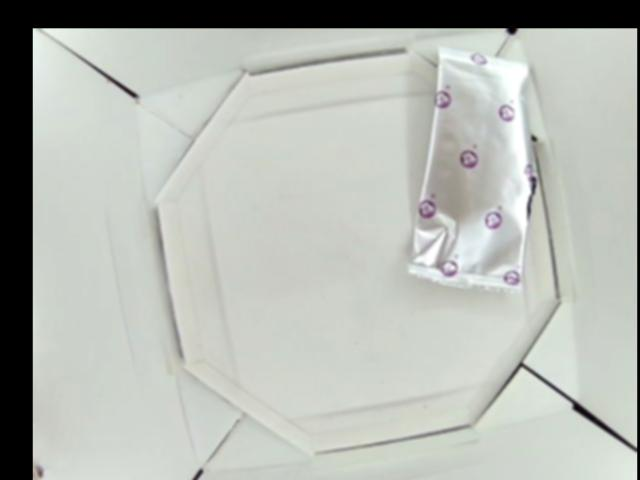Medicine: (405, 49, 540, 295)
